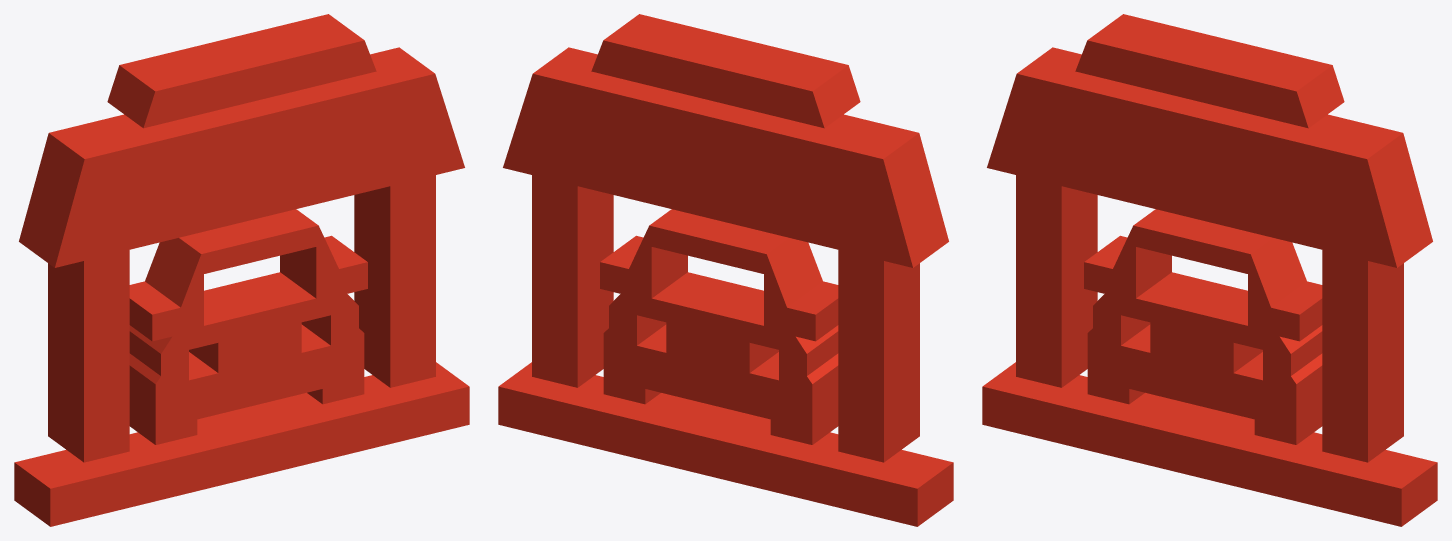
File: Icon_Car_04.fbx
3 views of the same model, side by side, from view 1: azimuth 30°, elevation 25°; view 2: azimuth 150°, elevation 25°; view 3: azimuth 330°, elevation 25° (orthographic).
Visible parts, largest first — view 1: Icon_Car_04; view 2: Icon_Car_04; view 3: Icon_Car_04.
Part boxes in pixels (bbox=[...]): Icon_Car_04: bbox=[14, 14, 469, 526]; Icon_Car_04: bbox=[498, 14, 953, 526]; Icon_Car_04: bbox=[982, 14, 1437, 526].
Bounding box in the file's own units: 81 × 75.72 × 12.06.
